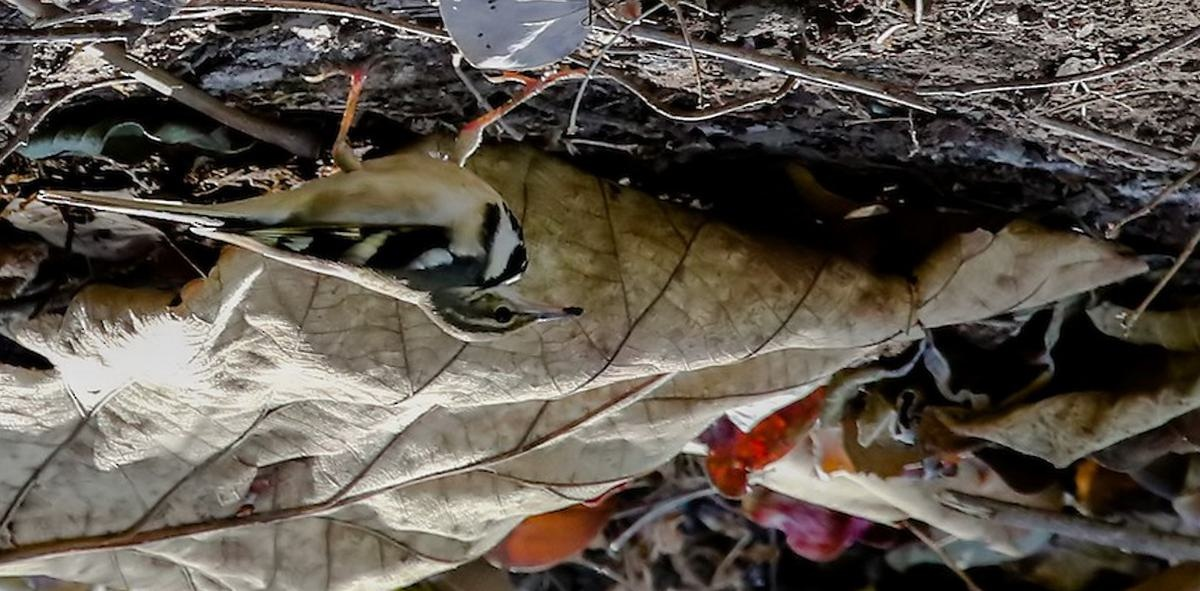wagtail: (150, 25, 594, 343)
